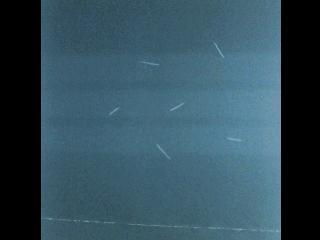crack: (41, 216, 281, 236)
scratch: (152, 138, 174, 162), (165, 99, 186, 115), (137, 57, 161, 70), (211, 39, 226, 59), (221, 134, 247, 145), (106, 103, 122, 120)
